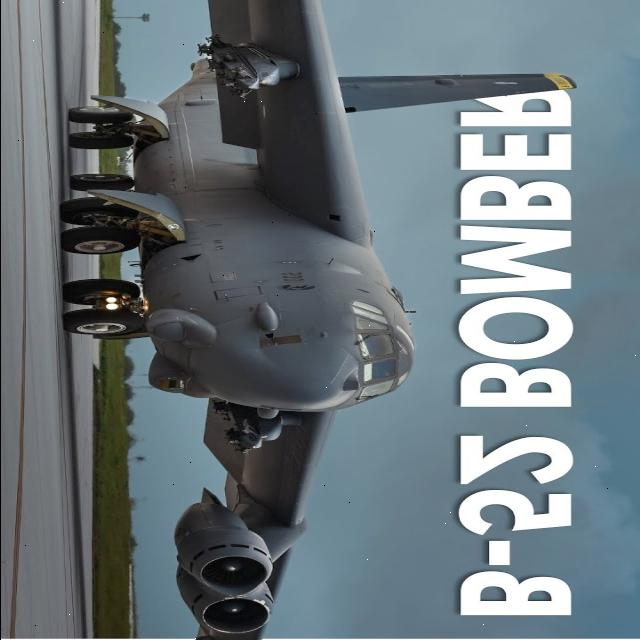B1: (33, 0, 455, 638)
